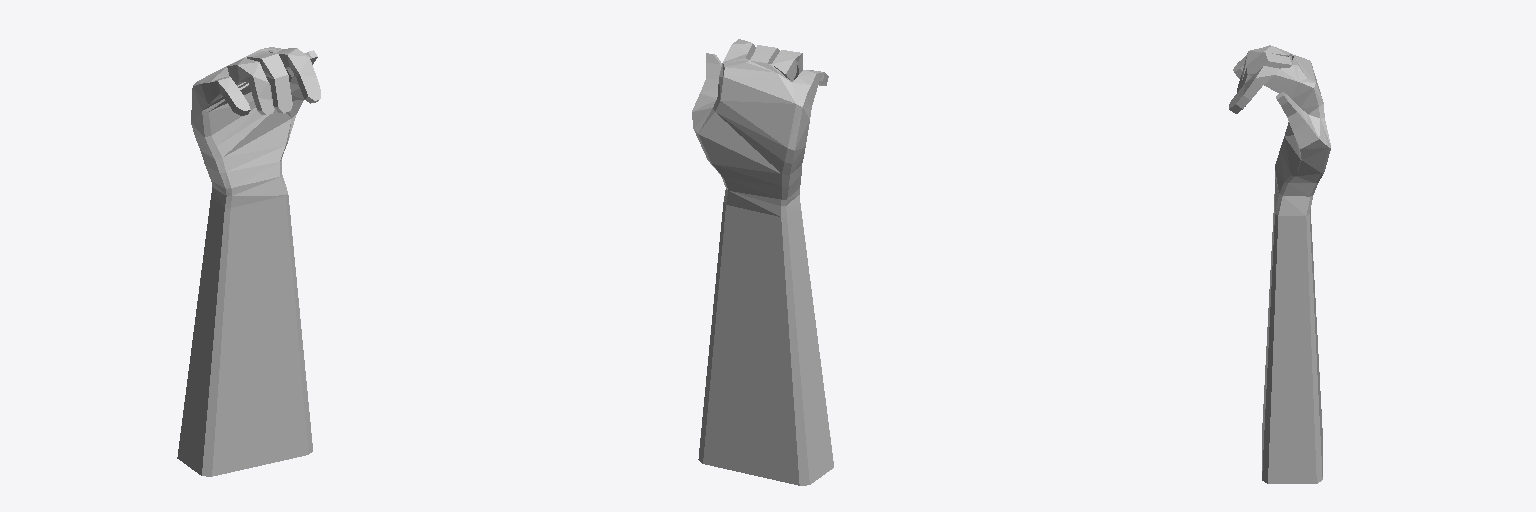
The model's file is hand_anim12.obj.
The picture shows the model from 3 angles: view 1: azimuth 30°, elevation 25°; view 2: azimuth 150°, elevation 25°; view 3: azimuth 270°, elevation 25°; orthographic projection.
Parts seen in each view (by area): view 1: Cube.001; view 2: Cube.001; view 3: Cube.001.
Part boxes in pixels (x1,y1,x2,y2): Cube.001: (177,47,320,476); Cube.001: (692,39,833,485); Cube.001: (1229,45,1330,483).
Bounding box in the file's own units: 0.8933 × 2.88 × 0.66.